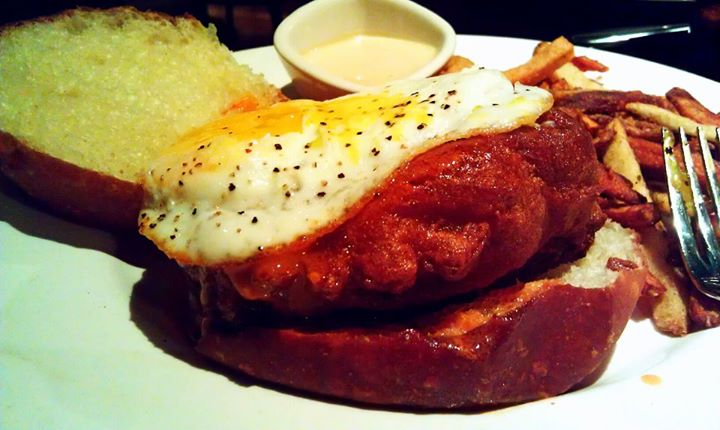fried egg: (152, 93, 507, 167)
slice of bread: (161, 302, 654, 413)
